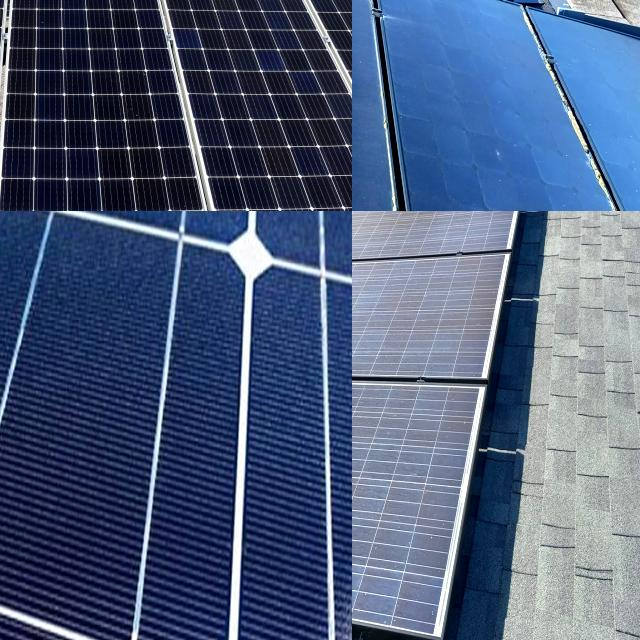crack: (0, 211, 258, 640), (0, 0, 236, 211), (236, 238, 352, 640), (149, 0, 352, 211), (0, 508, 243, 640), (0, 0, 121, 211), (112, 0, 300, 103), (0, 0, 157, 106), (223, 0, 352, 103), (0, 0, 83, 111)
dust: (409, 7, 536, 211), (352, 0, 431, 211)
